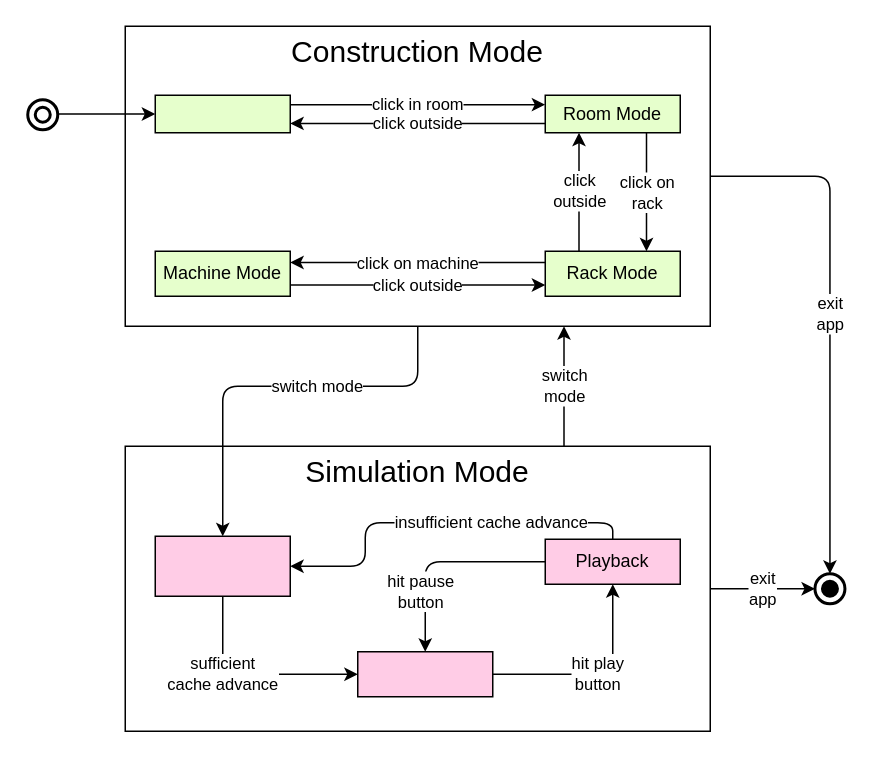
Some shapes in this 872 by 758 pixel diagram are drawn without their labels. Each missing label, with the box of its shape:
Building Mode: (154, 94, 290, 133)
Pause: (356, 650, 493, 697)
Waiting for cache: (154, 535, 290, 596)
